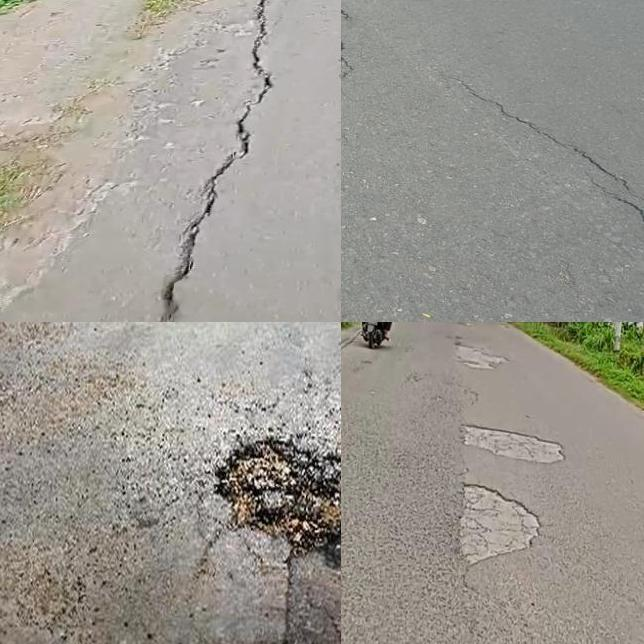Lubang: (233, 446, 341, 566), (460, 485, 538, 562), (454, 421, 573, 467)
Memanjang: (127, 0, 286, 322)
